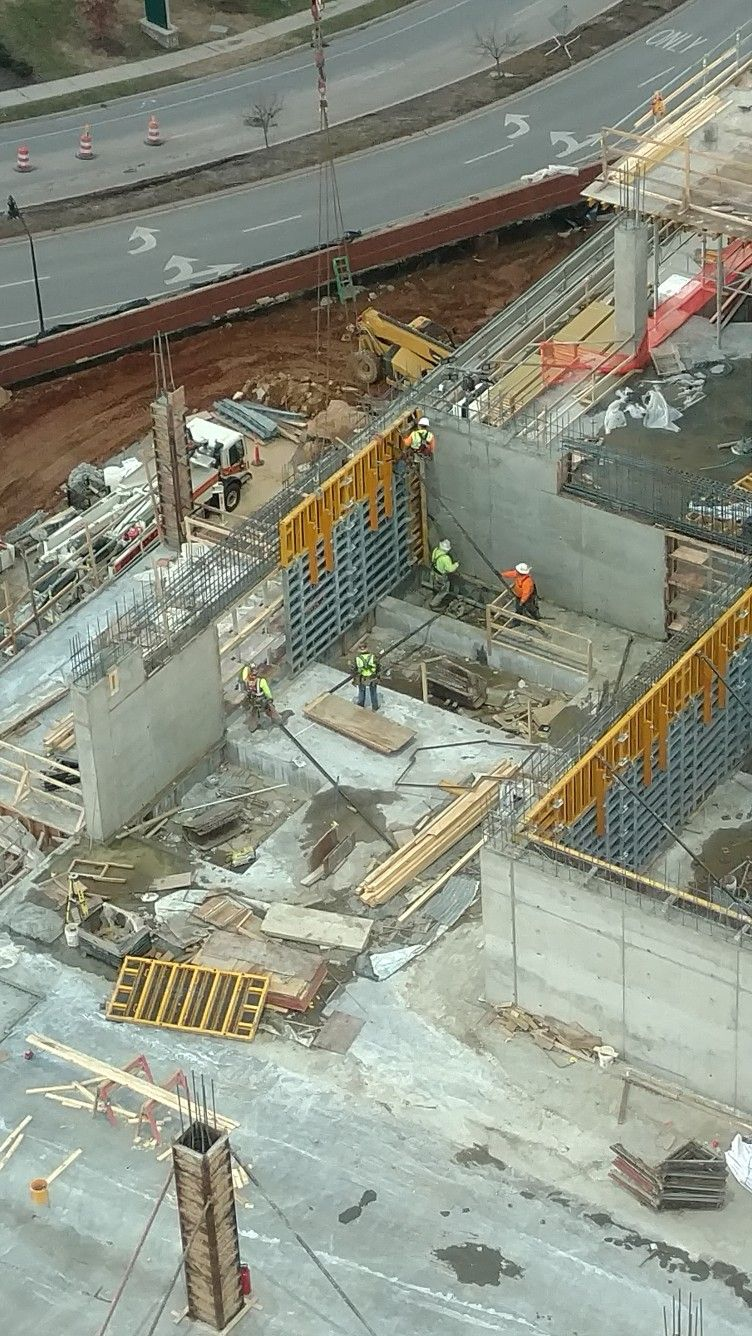person: (330, 625, 388, 726), (494, 533, 547, 627), (417, 520, 458, 609), (231, 665, 285, 721), (406, 405, 435, 488)
